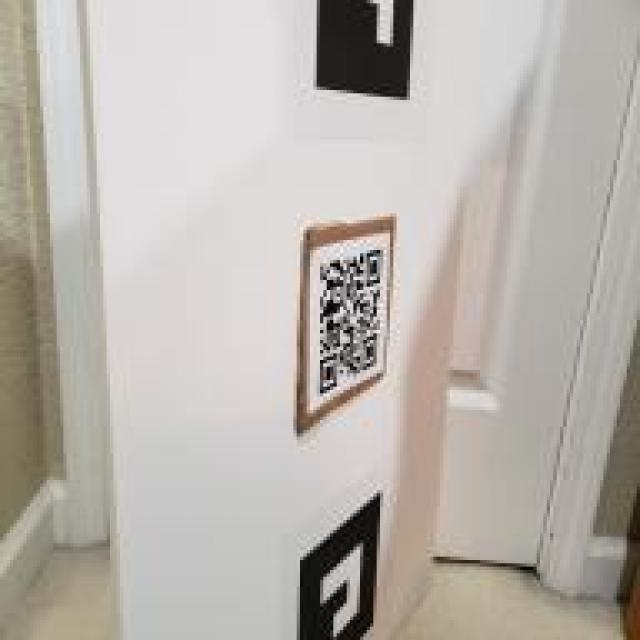qr_code: (319, 249, 383, 395)
